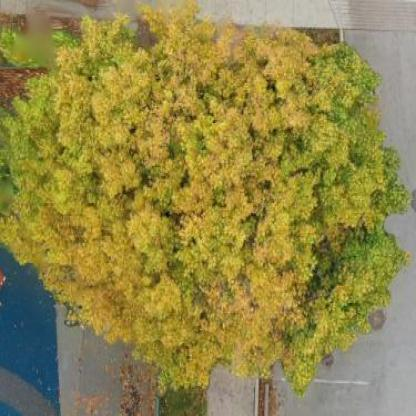Deciduous Tree: (12, 19, 414, 374)
